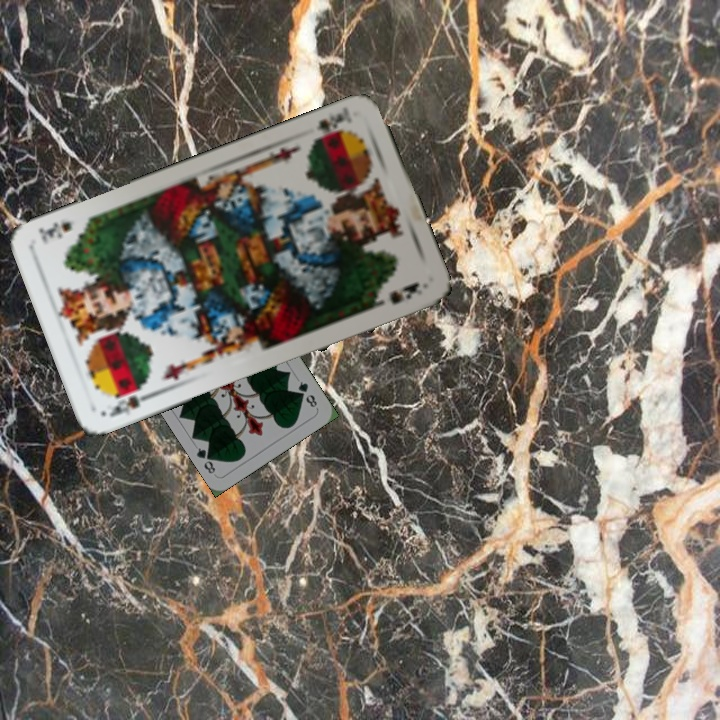G8: (294, 377, 320, 410)
SK: (105, 383, 157, 420), (308, 109, 348, 146)
